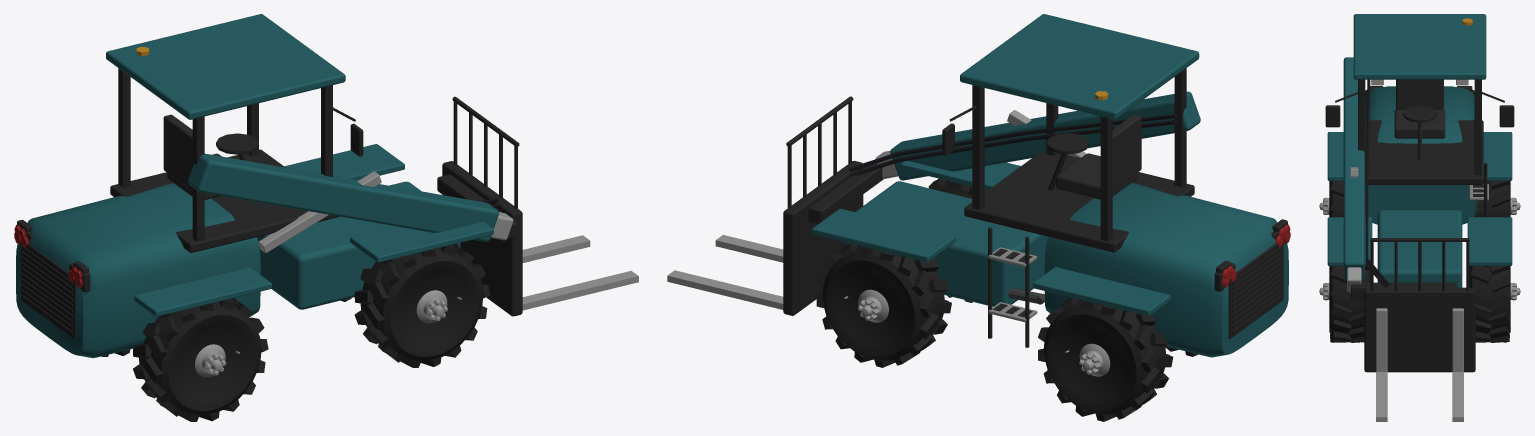
Rendered from SM_Prop_farm_loader_0.glb.
The picture shows the model from 3 angles, left to right: view 1: azimuth 30°, elevation 25°; view 2: azimuth 150°, elevation 25°; view 3: azimuth 270°, elevation 25°; orthographic projection. The views are drawn at different scales.
Parts seen in each view (by area): view 1: SM_Prop_farm_loader_0; view 2: SM_Prop_farm_loader_0; view 3: SM_Prop_farm_loader_0.
Part boxes in pixels (x1,y1,x2,y2): SM_Prop_farm_loader_0: (14, 14, 638, 421); SM_Prop_farm_loader_0: (667, 14, 1290, 421); SM_Prop_farm_loader_0: (1319, 14, 1520, 421).
Bounding box in the file's own units: 4.84 × 2.49 × 1.9.
